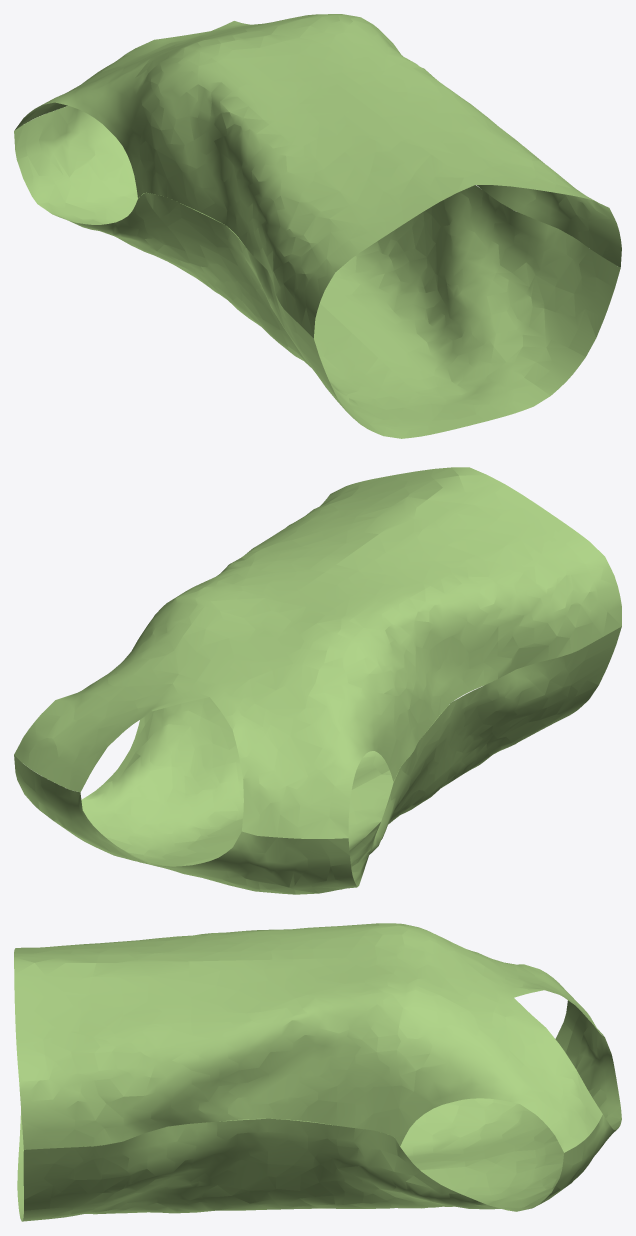
3 renders of one model, top to bottom at view 1: azimuth 30°, elevation 25°; view 2: azimuth 150°, elevation 25°; view 3: azimuth 270°, elevation 25°, orthographic. The views are drawn at different scales.
Visible parts, largest first — view 1: result; view 2: result; view 3: result.
Boxes of the visible parts, bbox=[...] form: result: bbox=[14, 14, 621, 438]; result: bbox=[14, 467, 621, 894]; result: bbox=[14, 923, 621, 1221].
Bounding box in the file's own units: 5.6 × 4.02 × 9.17.
